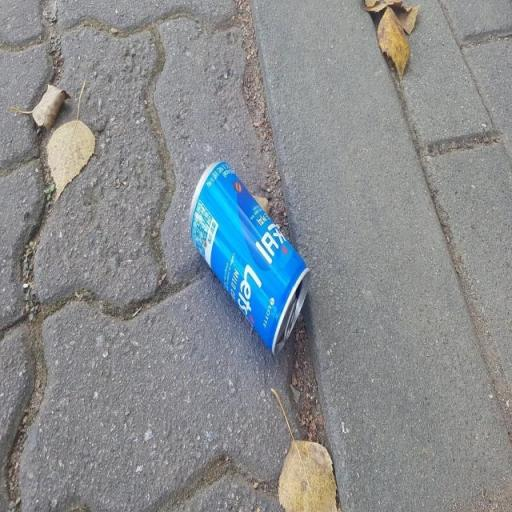metal: (164, 132, 330, 386)
